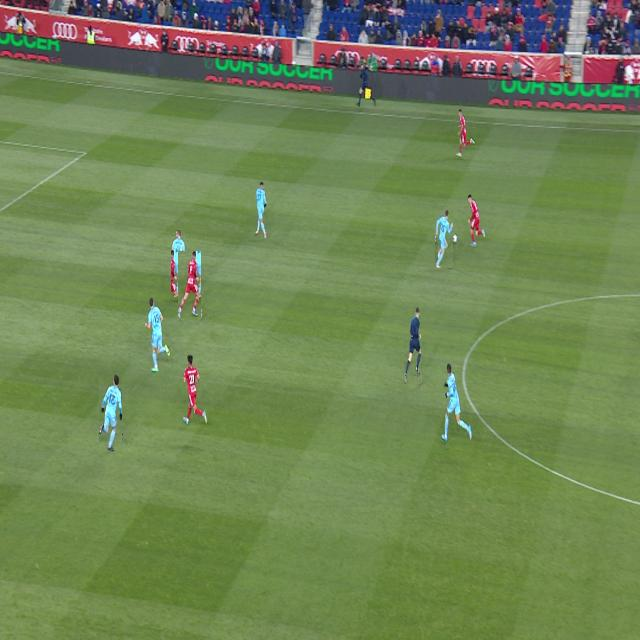football: (453, 234, 458, 242)
player: (442, 363, 472, 441), (145, 298, 170, 372), (183, 355, 207, 425), (100, 375, 122, 450), (179, 251, 201, 318), (436, 210, 453, 268), (172, 231, 186, 297), (456, 109, 475, 157), (468, 194, 485, 246), (255, 182, 267, 239)
referee: (405, 308, 421, 384)
